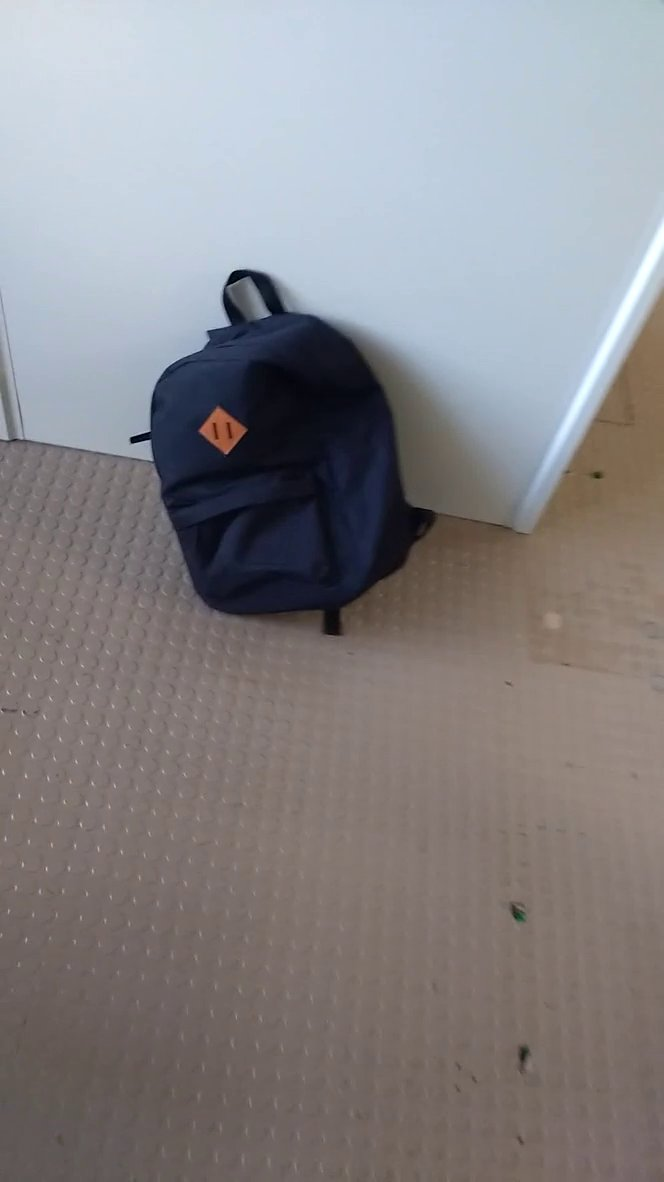bag: (124, 251, 451, 650)
